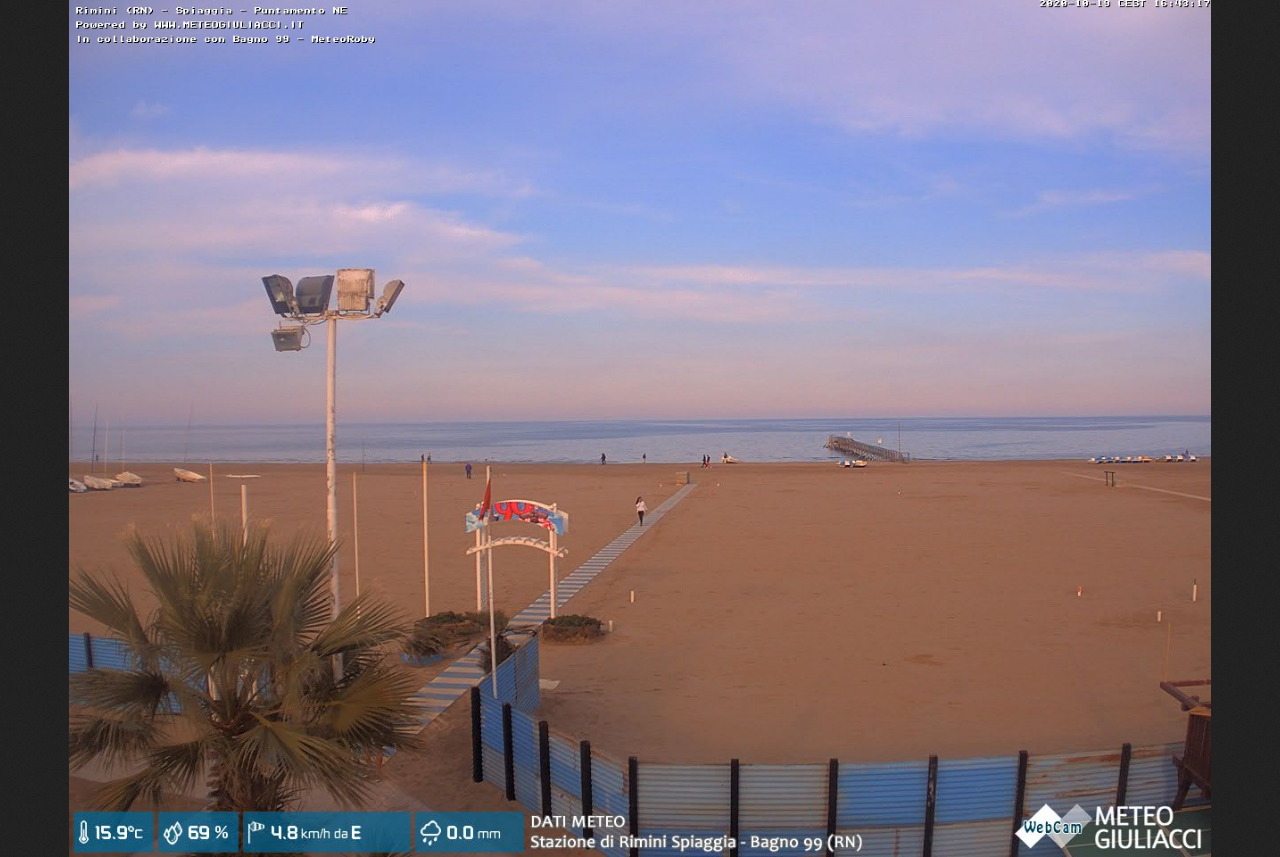no: (475, 473, 501, 521)
